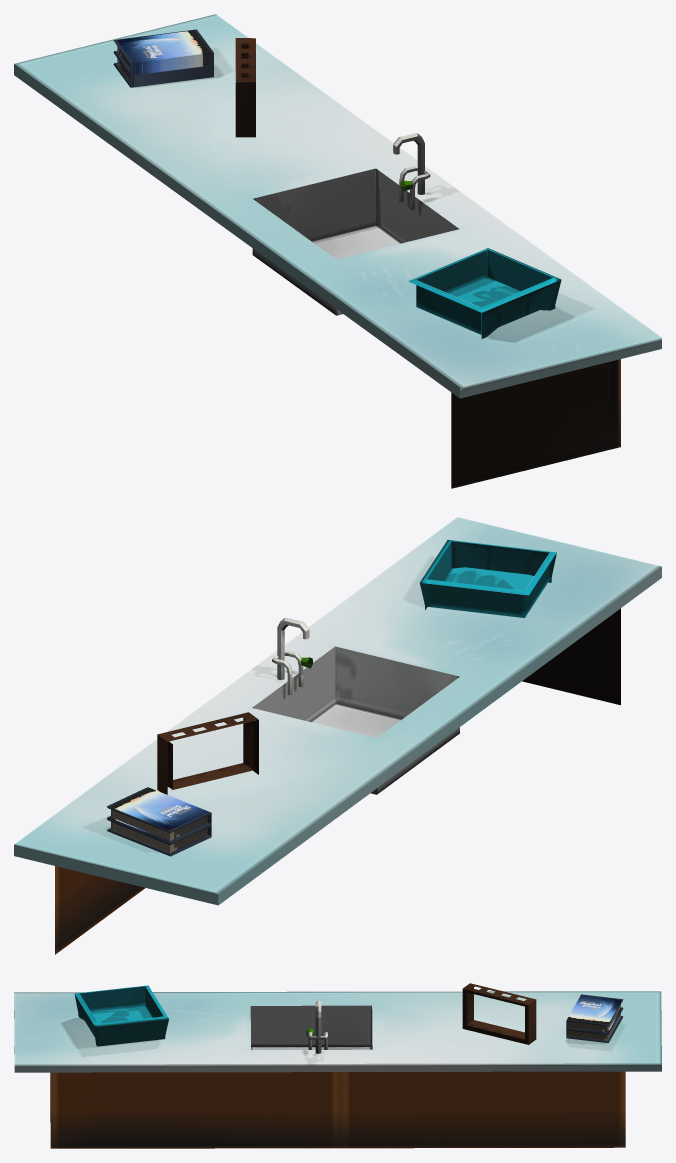
File: Tx_Props_Counter_1_ScienceDept.fbx
The picture shows the model from 3 angles, top to bottom: view 1: azimuth 30°, elevation 25°; view 2: azimuth 150°, elevation 25°; view 3: azimuth 270°, elevation 25°; orthographic projection. The views are drawn at different scales.
Visible parts, largest first — view 1: Tx_Props_Counter_1_ScienceDept; view 2: Tx_Props_Counter_1_ScienceDept; view 3: Tx_Props_Counter_1_ScienceDept.
Boxes of the visible parts, box(x1,y1,x2,y2) form: Tx_Props_Counter_1_ScienceDept: box(14, 14, 661, 488); Tx_Props_Counter_1_ScienceDept: box(14, 517, 661, 954); Tx_Props_Counter_1_ScienceDept: box(14, 983, 661, 1148).
Bounding box in the file's own units: 8.38 × 7.21 × 31.34.
